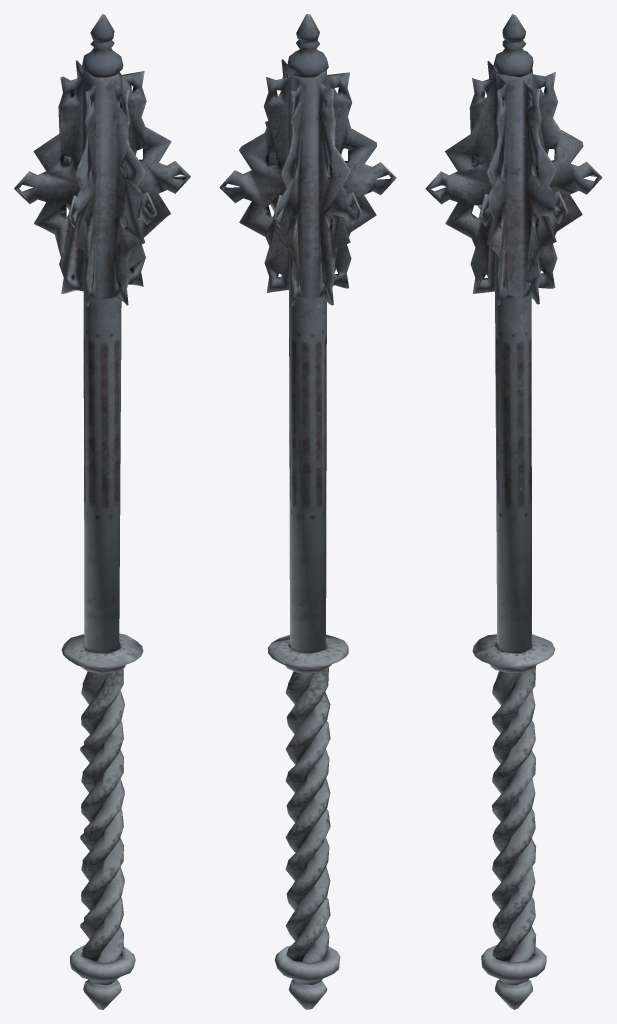
The model's file is ornate_medieval_mace.glb.
3 renders of one model, left to right at view 1: azimuth 30°, elevation 25°; view 2: azimuth 150°, elevation 25°; view 3: azimuth 270°, elevation 25°, orthographic.
Parts seen in each view (by area): view 1: ornate_medieval_mace; view 2: ornate_medieval_mace; view 3: ornate_medieval_mace.
Boxes of the visible parts, box(x1,y1,x2,y2) form: ornate_medieval_mace: box(14, 14, 190, 1009); ornate_medieval_mace: box(219, 14, 396, 1009); ornate_medieval_mace: box(425, 14, 602, 1009).
Bounding box in the file's own units: 0.0949 × 0.6299 × 0.1015.
1 material, 1 textured.
